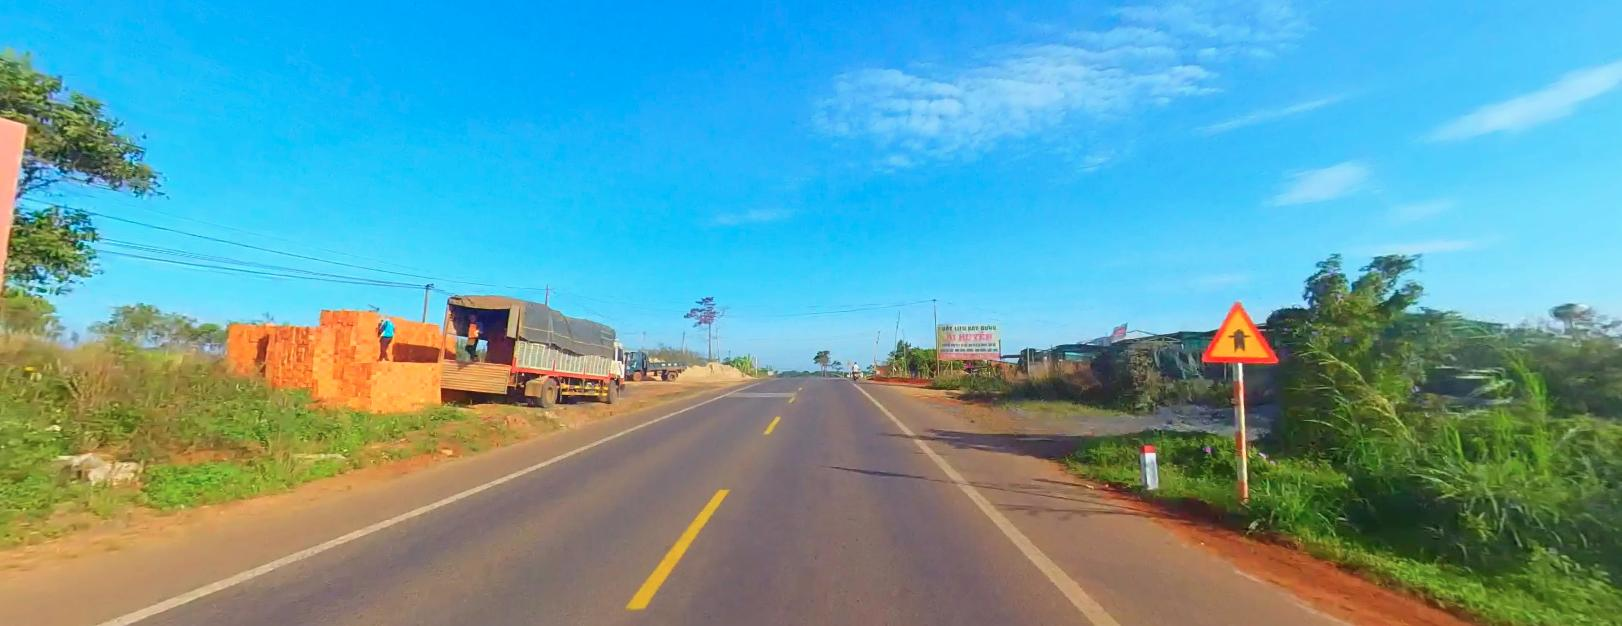Nguy hiem: (1199, 296, 1280, 364)
